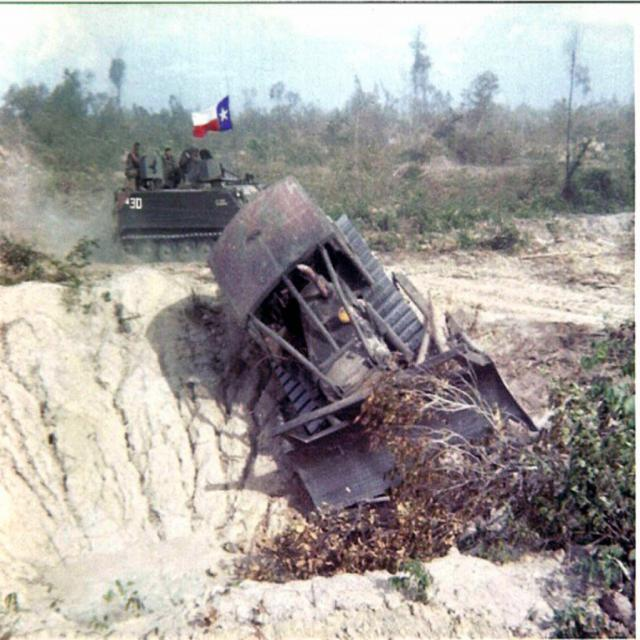tank: (111, 152, 261, 264)
